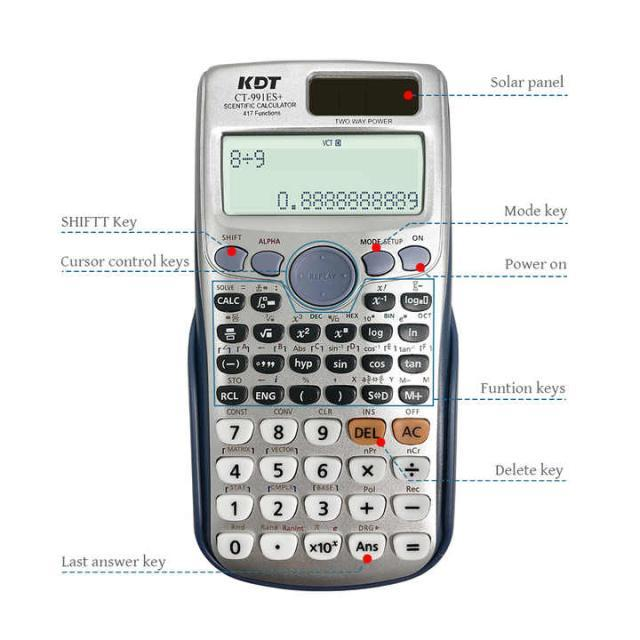Calculator: (190, 71, 474, 609)
